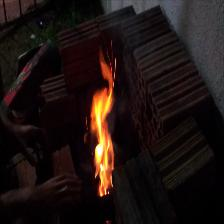fire: (70, 43, 144, 203)
